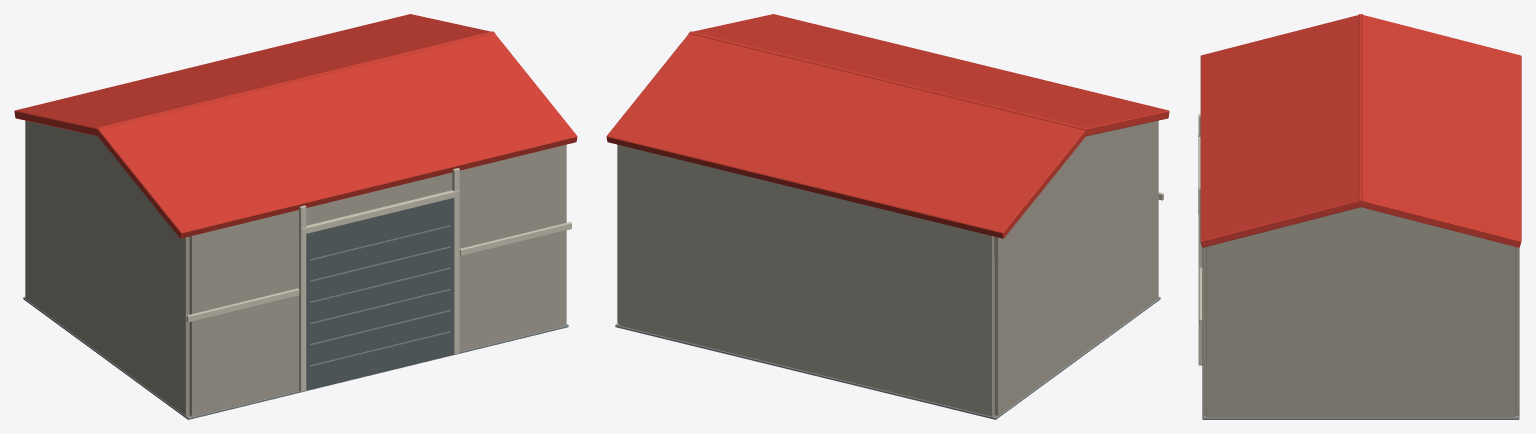
The model's file is Warehouse_Red.glb.
3 views of the same model, side by side, from view 1: azimuth 30°, elevation 25°; view 2: azimuth 150°, elevation 25°; view 3: azimuth 270°, elevation 25° (orthographic). The views are drawn at different scales.
Visible parts, largest first — view 1: FTF_Building_LargeWarehouse_16x12m_Red_Mesh; view 2: FTF_Building_LargeWarehouse_16x12m_Red_Mesh; view 3: FTF_Building_LargeWarehouse_16x12m_Red_Mesh.
Boxes of the visible parts, x1=… form: FTF_Building_LargeWarehouse_16x12m_Red_Mesh: x1=14, y1=14, x2=577, y2=419; FTF_Building_LargeWarehouse_16x12m_Red_Mesh: x1=606, y1=14, x2=1169, y2=419; FTF_Building_LargeWarehouse_16x12m_Red_Mesh: x1=1198, y1=14, x2=1521, y2=419.
Size of the model in its own units: 16.65 by 9.36 by 12.22.
